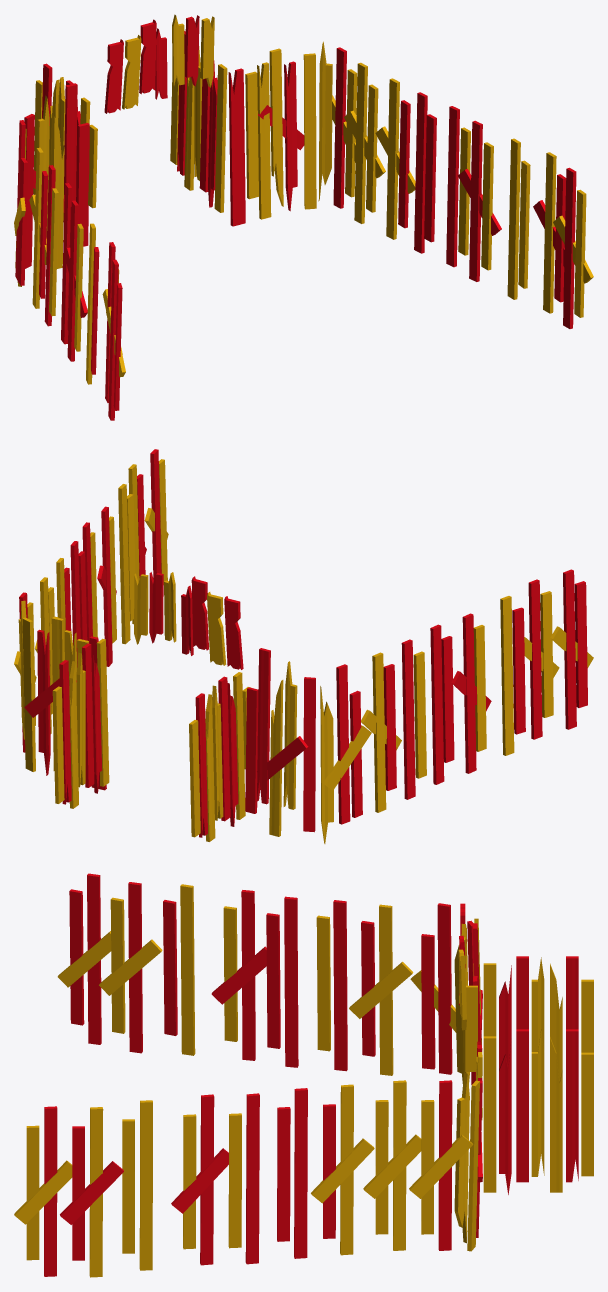
Rendered from Reaper hideout Outwood.fbx.
3 views of the same model, one above another, from view 1: azimuth 30°, elevation 25°; view 2: azimuth 150°, elevation 25°; view 3: azimuth 270°, elevation 25° (orthographic). The views are drawn at different scales.
Parts seen in each view (by area): view 1: Cube.598, Cube.590, Cube.597, Cube.602, Cube.579, Cube.593, Cube.448, Cube.439, Cube.594, Cube.483, Cube.591, Cube.611 (+47 smaller); view 2: Cube.574, Cube.482, Cube.567, Cube.613, Cube.624, Cube.616, Cube.619, Cube.626, Cube.621, Cube.570, Cube.573, Cube.590 (+52 smaller); view 3: Cube.482, Cube.483, Cube.624, Cube.619, Cube.570, Cube.602, Cube.611, Cube.546, Cube.616, Cube.626, Cube.613, Cube.621 (+51 smaller).
Boxes of the visible parts, x1,y1,x2,y2 form: Cube.598: [228, 68, 245, 226]; Cube.590: [303, 53, 316, 209]; Cube.597: [257, 62, 271, 219]; Cube.602: [446, 106, 459, 267]; Cube.579: [469, 120, 482, 281]; Cube.593: [269, 48, 283, 206]; Cube.448: [386, 78, 399, 239]; Cube.439: [354, 62, 367, 223]; Cube.594: [333, 47, 346, 208]; Cube.483: [414, 92, 427, 253]; Cube.591: [318, 41, 332, 201]; Cube.611: [507, 138, 520, 299]; Cube.574: [303, 677, 315, 832]; Cube.482: [500, 596, 514, 755]; Cube.567: [257, 648, 270, 804]; Cube.613: [563, 569, 576, 729]; Cube.624: [401, 639, 415, 799]; Cube.616: [528, 579, 542, 739]; Cube.619: [430, 624, 444, 784]; Cube.626: [372, 652, 386, 812]; Cube.621: [462, 613, 476, 773]; Cube.570: [336, 664, 350, 824]; Cube.573: [320, 686, 333, 843]; Cube.590: [22, 617, 35, 771]; Cube.482: [180, 884, 195, 1055]; Cube.483: [294, 1088, 307, 1258]; Cube.624: [333, 900, 347, 1071]; Cube.619: [284, 896, 298, 1067]; Cube.570: [437, 903, 452, 1074]; Cube.602: [245, 1093, 259, 1264]; Cube.611: [139, 1100, 152, 1270]; Cube.546: [483, 1036, 496, 1192]; Cube.616: [128, 882, 142, 1053]; Cube.626: [379, 904, 393, 1075]; Cube.613: [87, 873, 101, 1044]; Cube.621: [241, 890, 255, 1060].
Size of the model in its own units: 6752 by 3349 by 6852.
